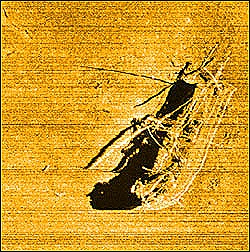ship: (86, 43, 239, 210)
